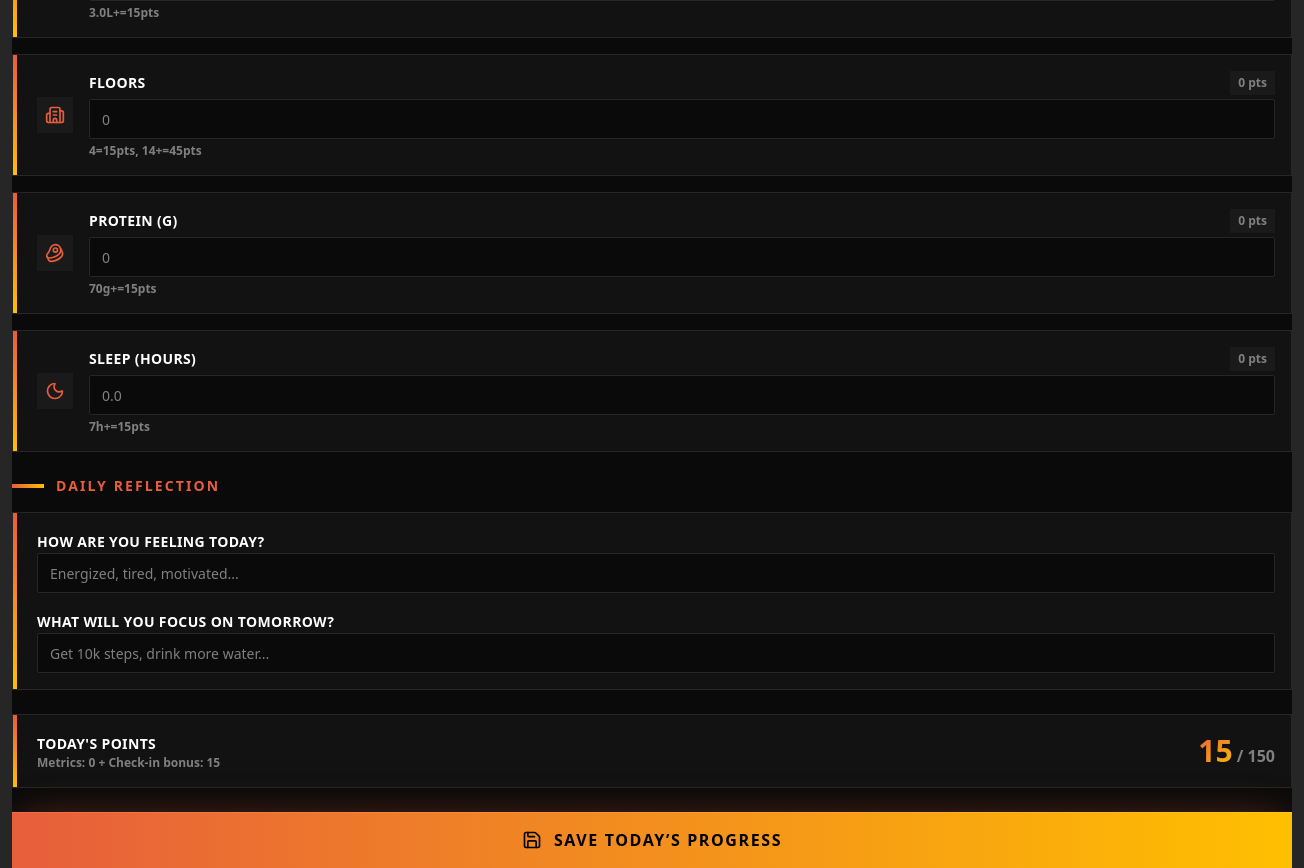
Test: TodaysTasks › handleInputChange › resets save state when modifying input after success
(page scrolled)
# Save first
Click the button "Save Today’s Progress": x=652, y=840 [12, 812, 1292, 867]
(page scrolled)
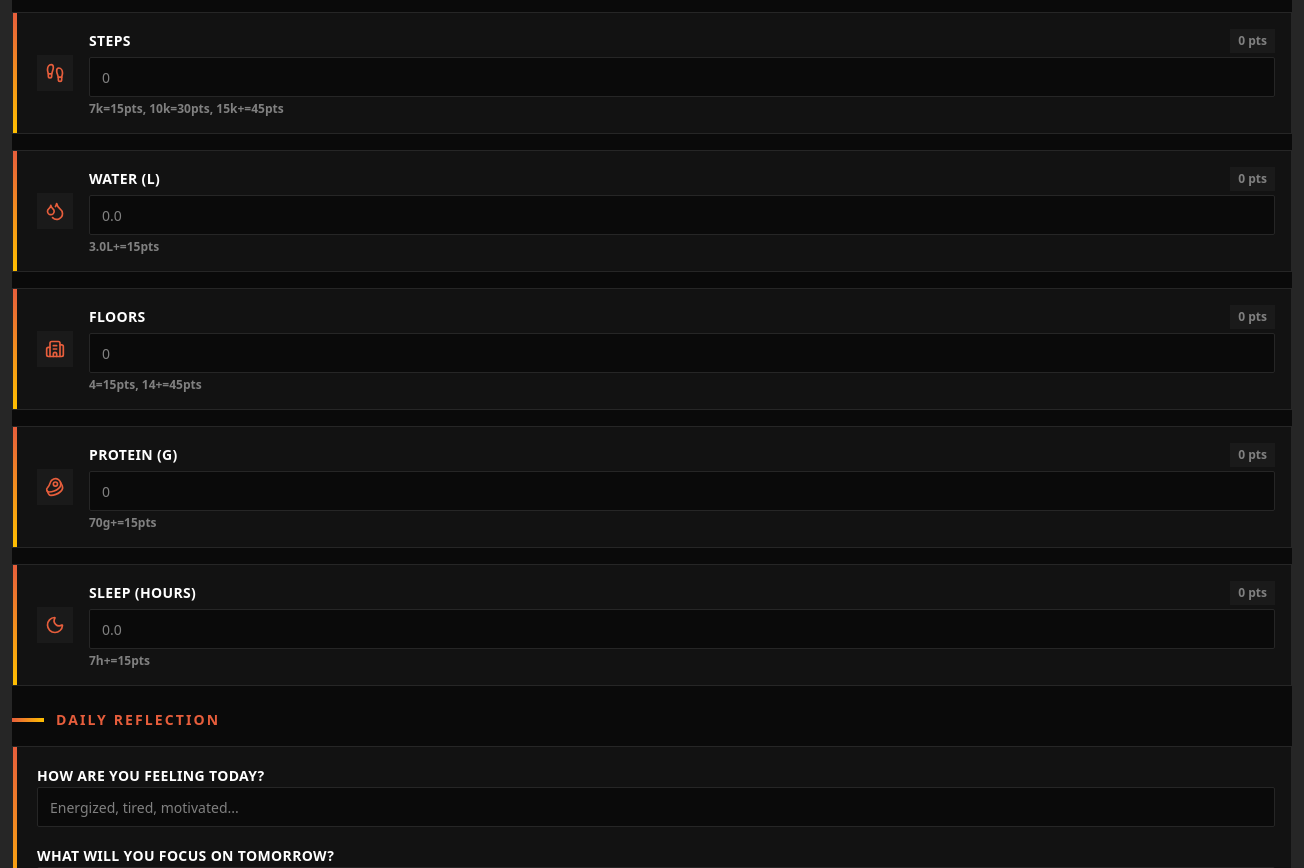
# Now modify an input — should reset save state
In the number field labelled "Steps": x=682, y=77 [89, 57, 1275, 97], type "5000"
(page scrolled)
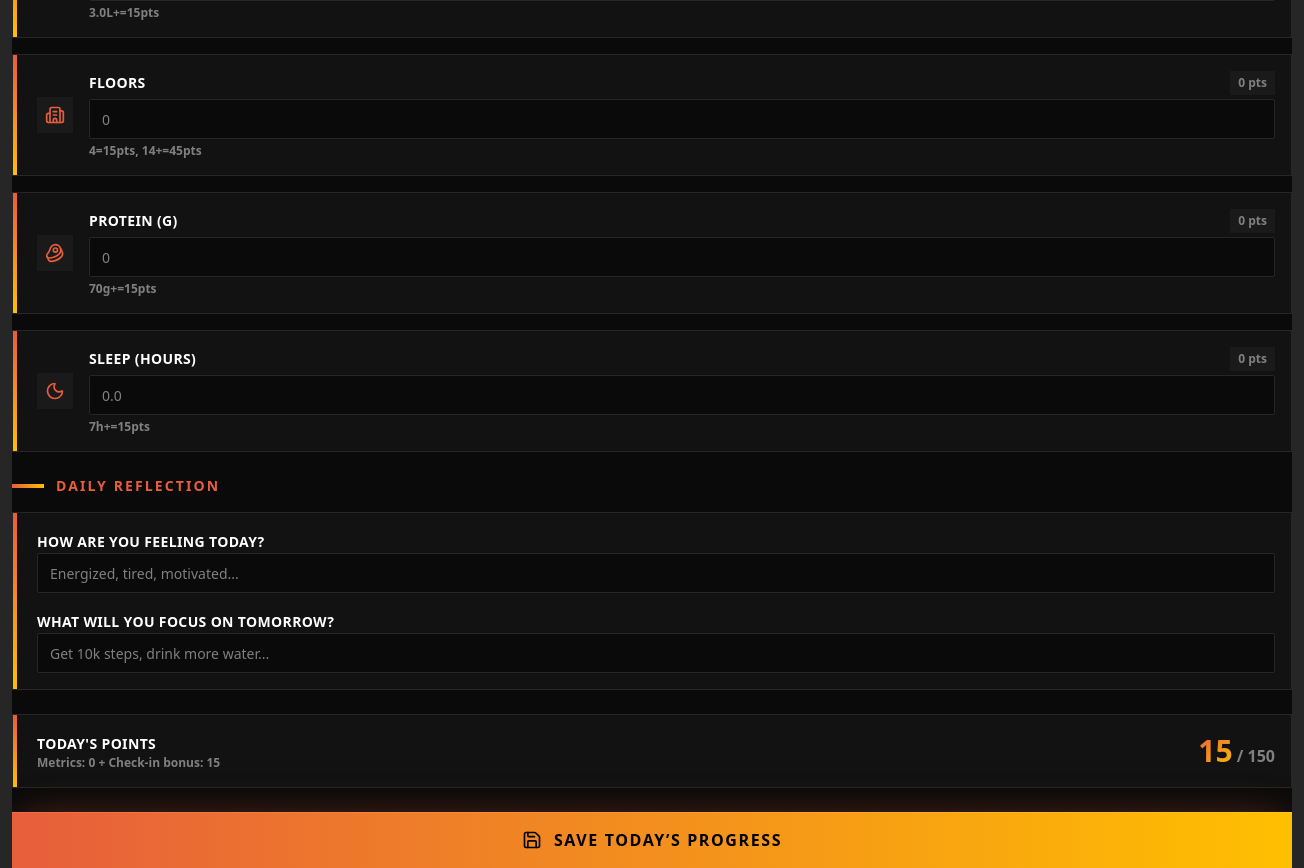
Expected: the button "Save Today’s Progress" is shown, [12, 812, 1292, 867]
